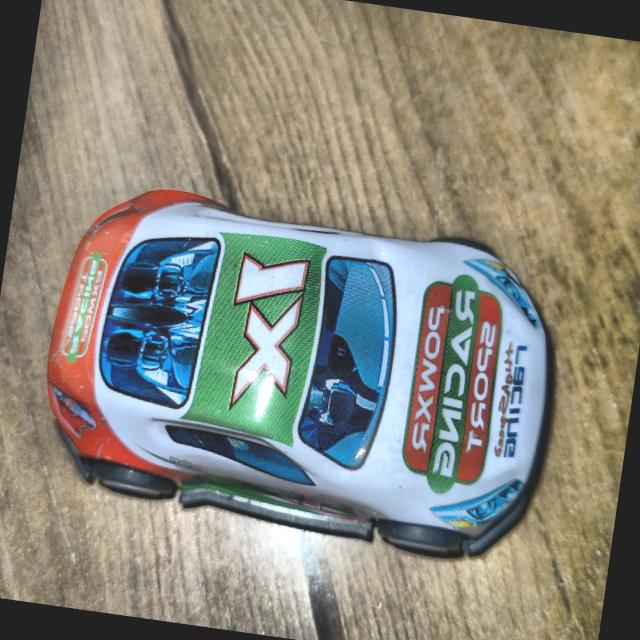Car: (30, 177, 571, 565)
